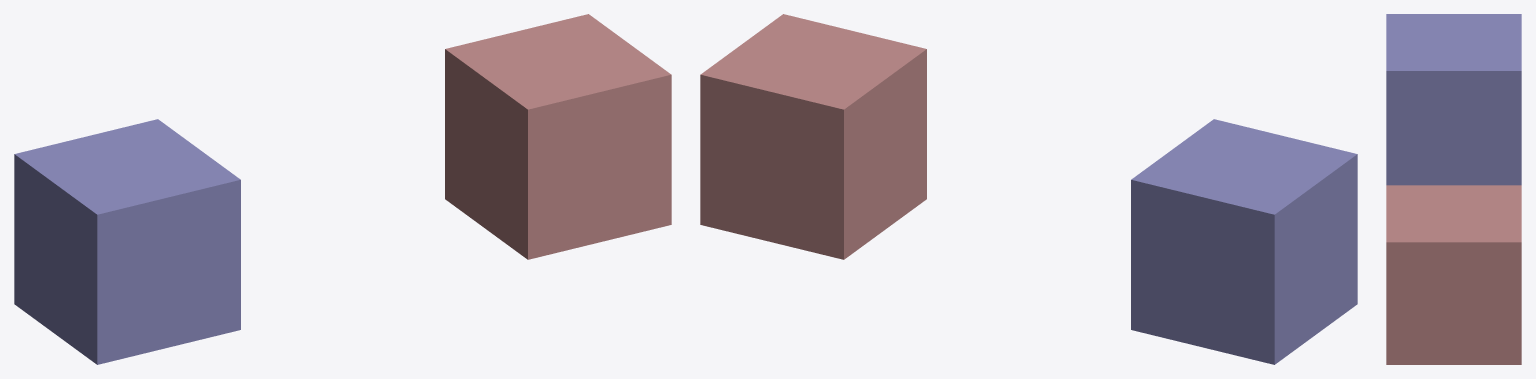
The model's file is two_box_assembly.glb.
The picture shows the model from 3 angles, left to right: view 1: azimuth 30°, elevation 25°; view 2: azimuth 150°, elevation 25°; view 3: azimuth 270°, elevation 25°; orthographic projection. The views are drawn at different scales.
Parts seen in each view (by area): view 1: box_a, box_b; view 2: box_a, box_b; view 3: box_a, box_b.
Part boxes in pixels (x1,y1,x2,y2): box_a: [445, 14, 671, 259]; box_b: [14, 119, 240, 364]; box_a: [700, 14, 926, 259]; box_b: [1131, 119, 1357, 364]; box_a: [1386, 185, 1521, 364]; box_b: [1386, 14, 1521, 185].
Bounding box in the file's own units: 4 × 1 × 1.
